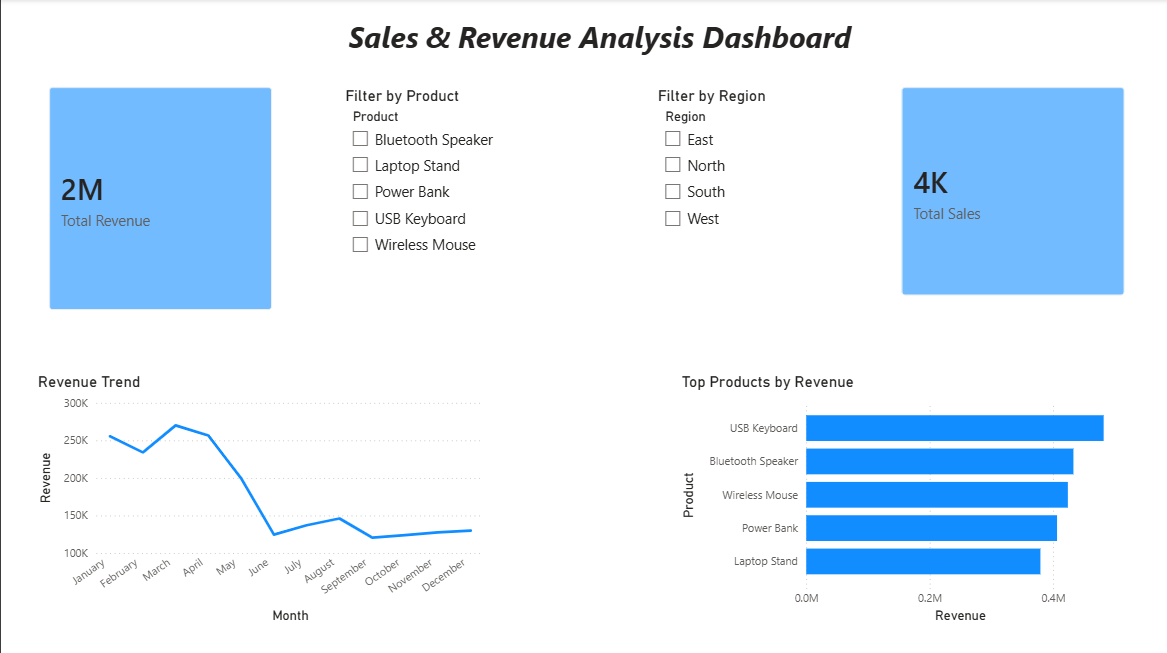

The dashboard page shown, as its layout file describes it:
{"tool":"powerbi","page":{"name":"Page 1","canvas":[1280,720],"ordinal":0},"visuals":[{"type":"cardVisual","fields":{"Data":["SalesData.Total Revenue"]},"box":[35.7,79.6,279.9,279.9],"z":0},{"type":"lineChart","title":"Revenue Trend","fields":{"Y":["Sum(SalesData.Revenue)"],"Category":["SalesData.Date.Variation.Date Hierarchy.Month"]},"box":[35.7,410.3,499.5,279.9],"z":1000},{"type":"clusteredBarChart","title":"Top Products by Revenue","fields":{"Category":["SalesData.Product"],"Y":["Sum(SalesData.Revenue)"]},"box":[742.4,410.3,499.5,279.9],"z":2000},{"type":"cardVisual","fields":{"Data":["SalesData.Total Sales"]},"box":[971.5,79.6,279.9,263.5],"z":3000},{"type":"slicer","title":"Filter by Product","fields":{"Values":["SalesData.Product"]},"box":[373.2,96.1,196.2,279.9],"z":4000},{"type":"slicer","title":"Filter by Region","fields":{"Values":["SalesData.Region"]},"box":[716.3,96.1,196.2,279.9],"z":5000},{"type":"textbox","box":[72.7,15.1,1169.1,81],"z":6000}]}

Visuals, with their boxes in screenshot pixels (x1, y1, x2, y2), scaled from the page's 1280x720 canvas onto the 1167x653 screenshot:
cardVisual - SalesData.Total Revenue: (33,72,288,326)
"Revenue Trend" lineChart: (33,372,488,626)
"Top Products by Revenue" clusteredBarChart: (677,372,1132,626)
cardVisual - SalesData.Total Sales: (886,72,1141,311)
"Filter by Product" slicer: (340,87,519,341)
"Filter by Region" slicer: (653,87,832,341)
textbox: (66,14,1132,87)
